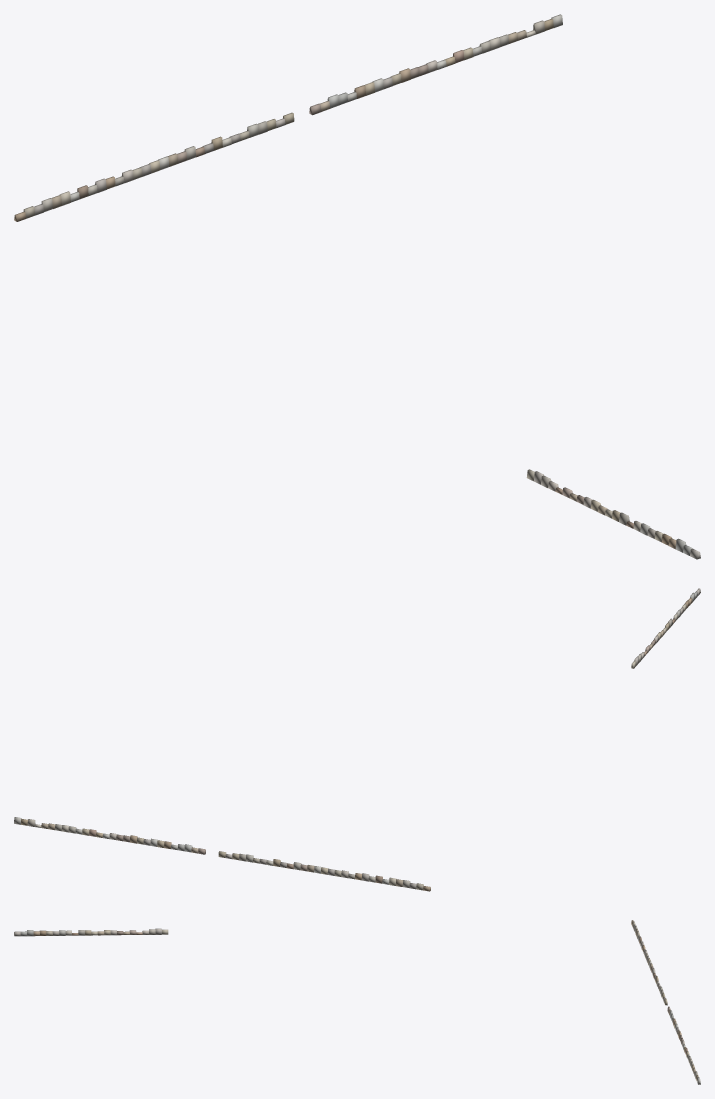
Rendered from farm_4_0_collision.glb.
3 renders of one model, top to bottom at view 1: azimuth 30°, elevation 25°; view 2: azimuth 150°, elevation 25°; view 3: azimuth 270°, elevation 25°, orthographic. The views are drawn at different scales.
Visible parts, largest first — view 1: geometry_0; view 2: geometry_0; view 3: geometry_0.
Part boxes in pixels (bbox=[...]): geometry_0: bbox=[14, 14, 700, 559]; geometry_0: bbox=[14, 588, 700, 891]; geometry_0: bbox=[14, 920, 700, 1084].
Size of the model in its own units: 95.81 by 7.24 by 169.
